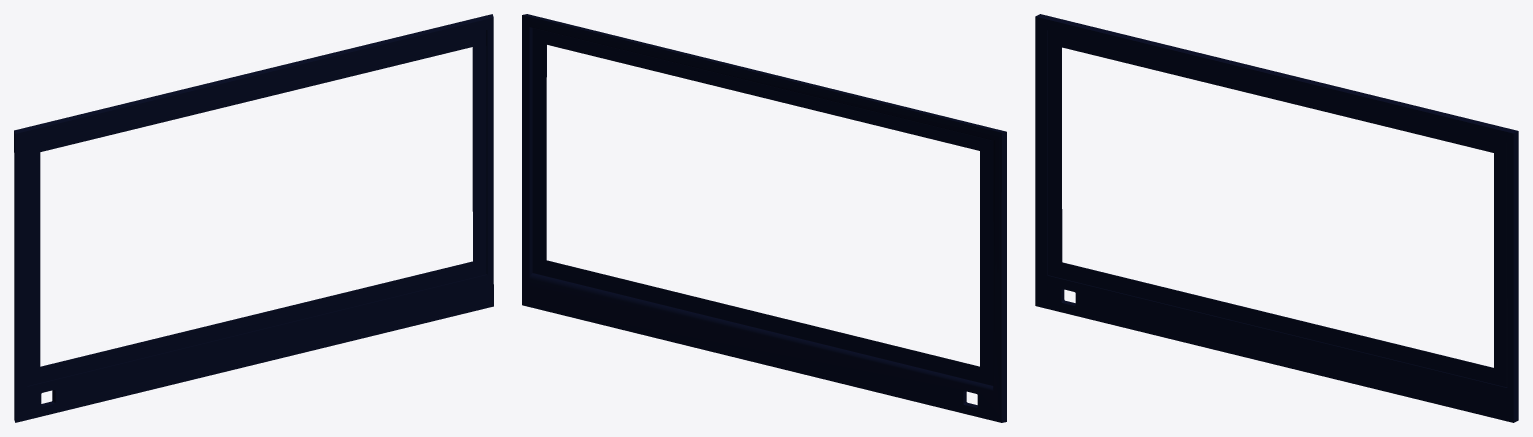
Rendered from pantalla_cine.glb.
3 renders of one model, left to right at view 1: azimuth 30°, elevation 25°; view 2: azimuth 150°, elevation 25°; view 3: azimuth 330°, elevation 25°, orthographic.
Visible parts, largest first — view 1: Cube; view 2: Cube; view 3: Cube.
Boxes of the visible parts, x1,y1,x2,y2 form: Cube: [14, 14, 493, 422]; Cube: [522, 14, 1006, 422]; Cube: [1035, 14, 1518, 422].
Bounding box in the file's own units: 4.69 × 2.71 × 0.0603.
